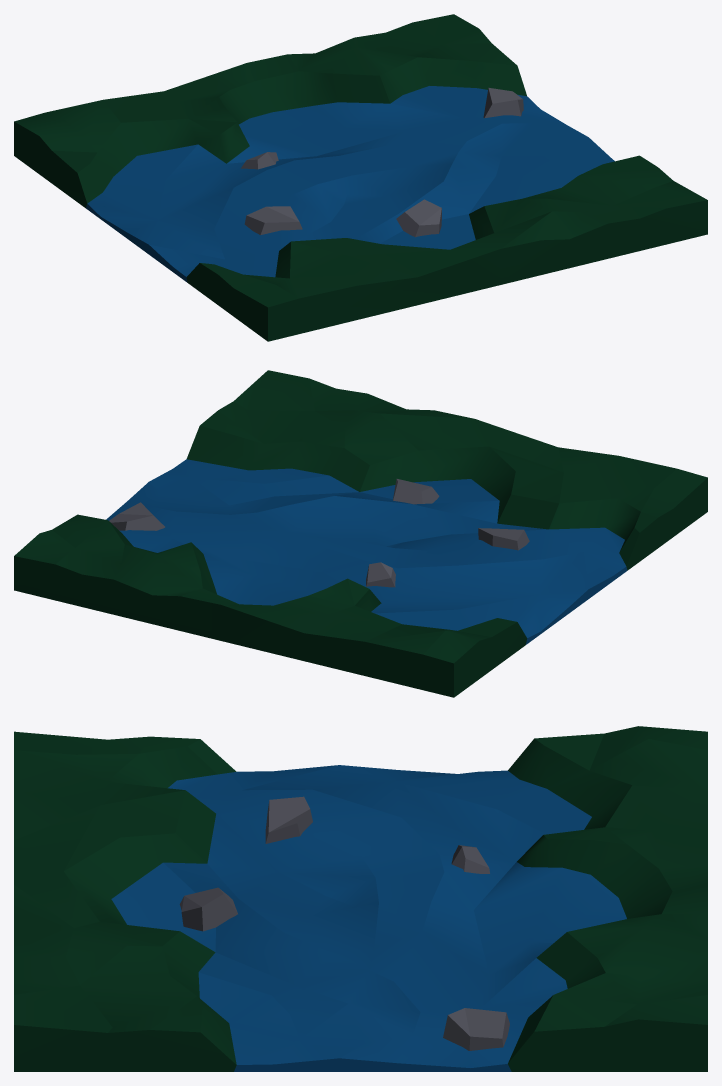
The model's file is Water_River_H.fbx.
The picture shows the model from 3 angles, top to bottom: view 1: azimuth 30°, elevation 25°; view 2: azimuth 150°, elevation 25°; view 3: azimuth 270°, elevation 25°; orthographic projection. The views are drawn at different scales.
Parts seen in each view (by area): view 1: Water_River_H; view 2: Water_River_H; view 3: Water_River_H.
Part boxes in pixels (x1=…): Water_River_H: x1=14, y1=14, x2=707, y2=341; Water_River_H: x1=14, y1=370, x2=707, y2=697; Water_River_H: x1=14, y1=726, x2=707, y2=1071.
Size of the model in its own units: 147 by 15.12 by 147.
